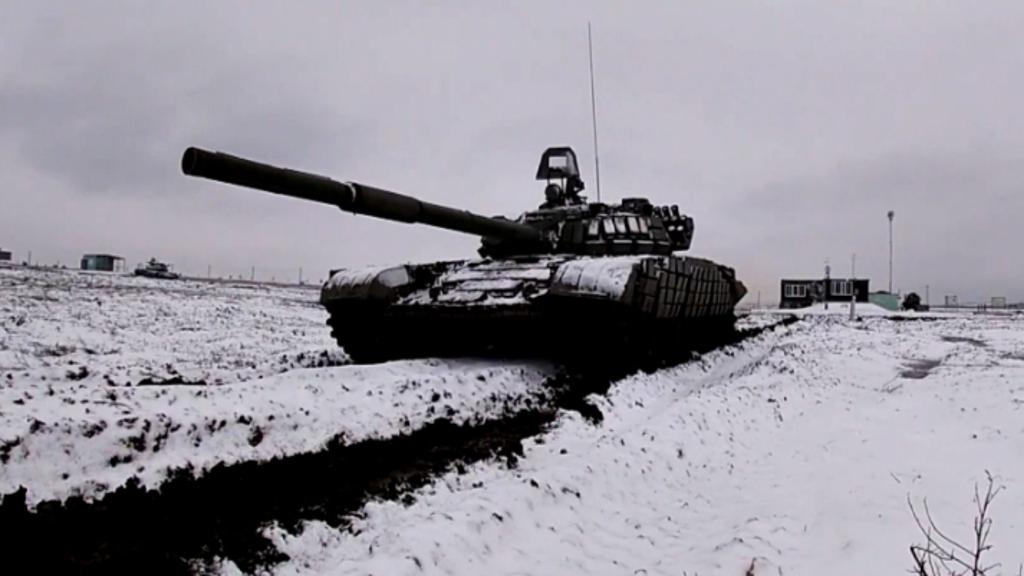TANK: (179, 126, 748, 361), (134, 257, 179, 284)
